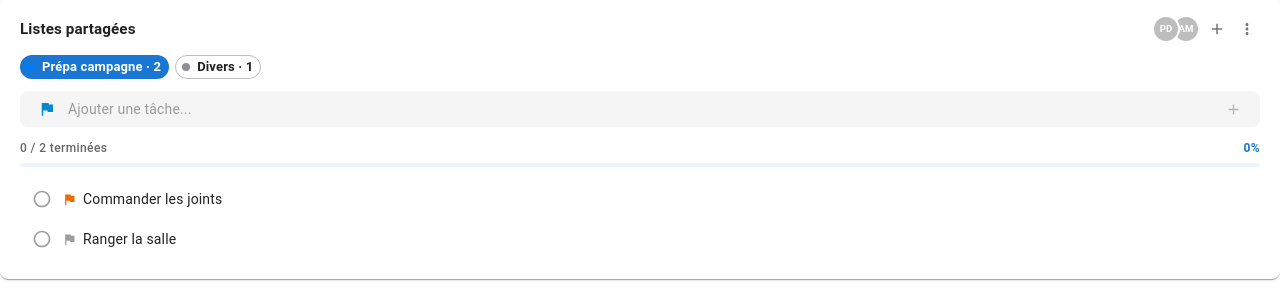
Test: SharedTasksWidget › propose « Quitter la liste » à un simple membre et confirme la suppression owner
The width and height of the screenshot is (1280, 298).
Click the button "Divers · 1" at coordinates (218, 67), box [175, 55, 261, 79]
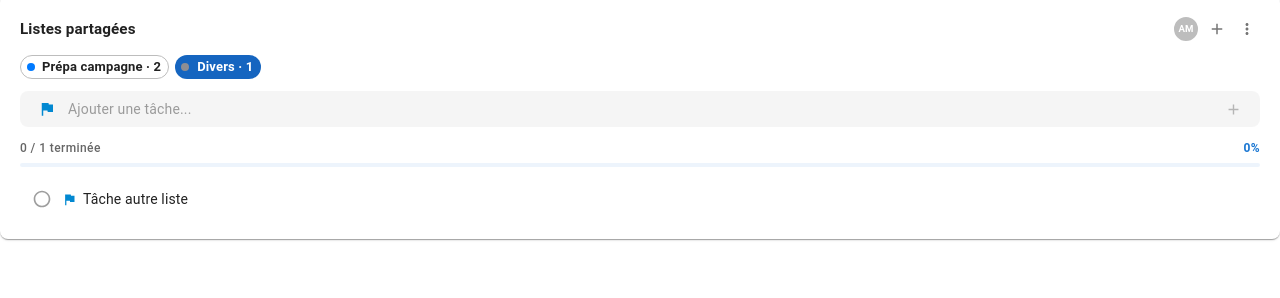
Expected: the text "Tâche autre liste" is shown, [83, 191, 188, 207]
Click the button named "Actions de la liste" at coordinates (1247, 29), box [1234, 16, 1260, 42]
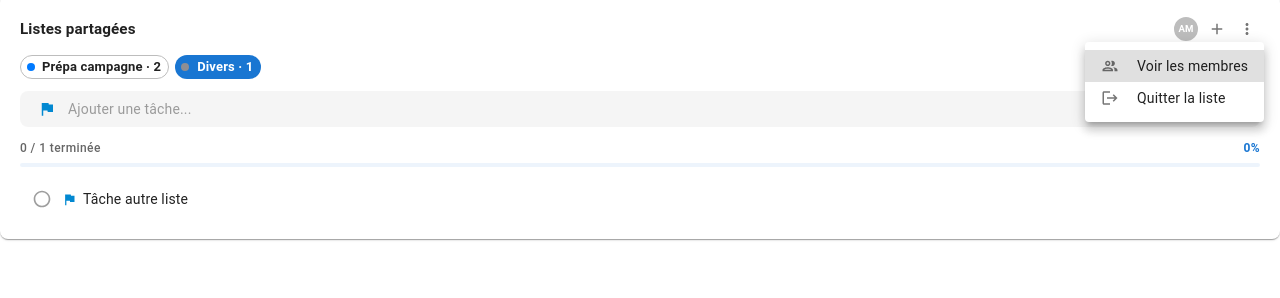
Expected: the text "Quitter la liste" is shown, [1137, 90, 1226, 106]
Expected: the text "Voir les membres" is shown, [1137, 56, 1248, 76]
